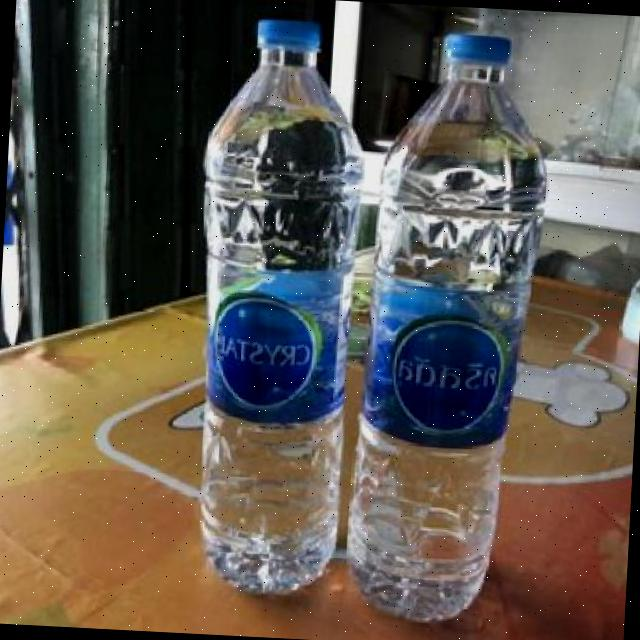bottle: (351, 4, 569, 621), (183, 0, 383, 618)
cap: (428, 29, 524, 77), (242, 14, 330, 58)
label: (364, 287, 535, 449), (208, 257, 350, 419)
